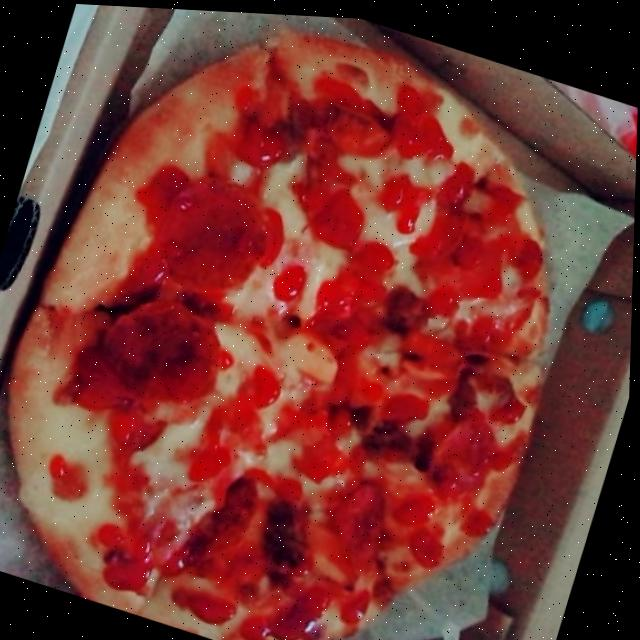pepperoni: (90, 281, 234, 418), (149, 163, 280, 305), (328, 478, 394, 558), (309, 179, 371, 248)
pizza: (0, 0, 621, 640)
